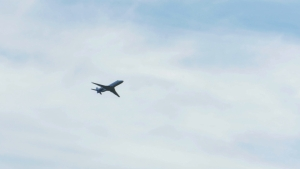flight: (91, 78, 125, 97)
